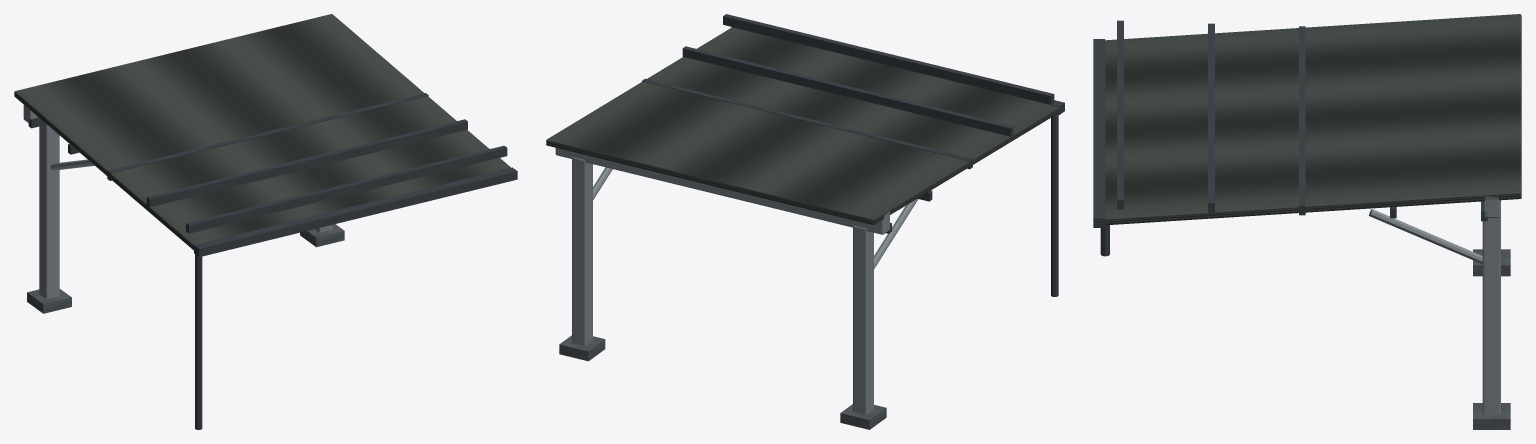
Rendered from fac_carport.glb.
3 renders of one model, left to right at view 1: azimuth 30°, elevation 25°; view 2: azimuth 150°, elevation 25°; view 3: azimuth 270°, elevation 25°, orthographic. The views are drawn at different scales.
Parts seen in each view (by area): view 1: FAC_CARPORT; view 2: FAC_CARPORT; view 3: FAC_CARPORT.
Part boxes in pixels (x1,y1,x2,y2): FAC_CARPORT: [14, 14, 517, 429]; FAC_CARPORT: [546, 14, 1064, 429]; FAC_CARPORT: [1093, 14, 1521, 429].
Size of the model in its own units: 5.6 by 3.52 by 5.66.
Materials: 4 (2 with a texture image).
